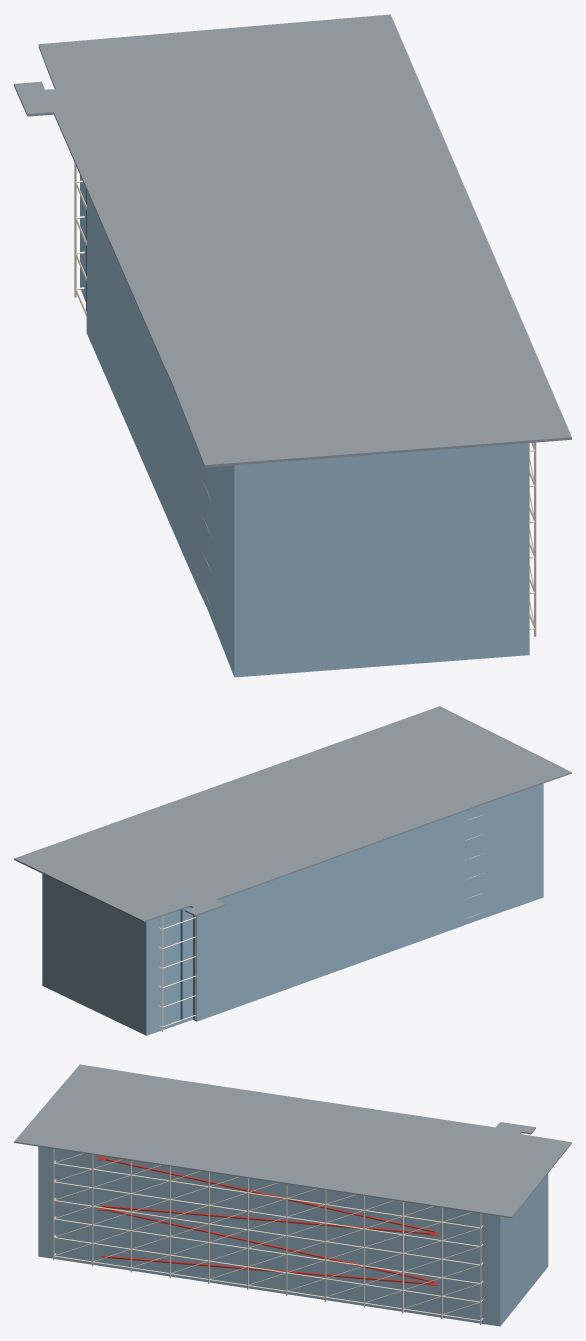
The model's file is detail.glb.
The picture shows the model from 3 angles, top to bottom: view 1: azimuth 30°, elevation 25°; view 2: azimuth 150°, elevation 25°; view 3: azimuth 270°, elevation 25°; orthographic projection. The views are drawn at different scales.
Parts seen in each view (by area): view 1: roof, glass, trim; view 2: glass, roof, trim; view 3: glass, roof, trim, recess.
Part boxes in pixels (box(x1,y1,x2,y2)): roof: box(14, 14, 571, 467); glass: box(80, 175, 529, 677); trim: box(74, 162, 536, 636); glass: box(42, 783, 543, 1035); roof: box(14, 706, 571, 922); trim: box(159, 815, 481, 1031); glass: box(38, 1146, 548, 1326); roof: box(14, 1064, 571, 1218); trim: box(53, 1149, 483, 1325); recess: box(98, 1156, 438, 1285).
Size of the model in its own units: 115 by 42 by 177.
